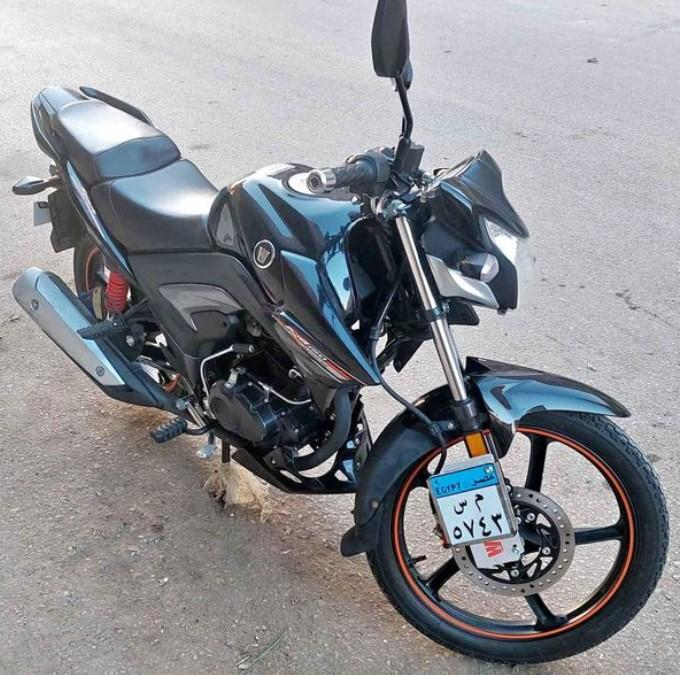License Plate: (428, 458, 514, 548)
